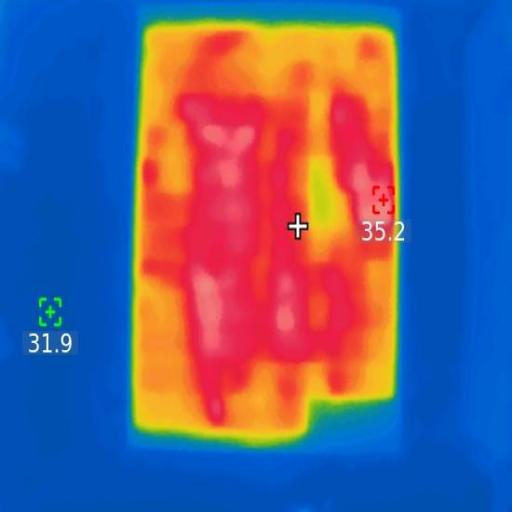hotspot: (201, 123, 259, 195), (187, 267, 232, 353), (353, 161, 395, 238), (267, 275, 299, 341)
